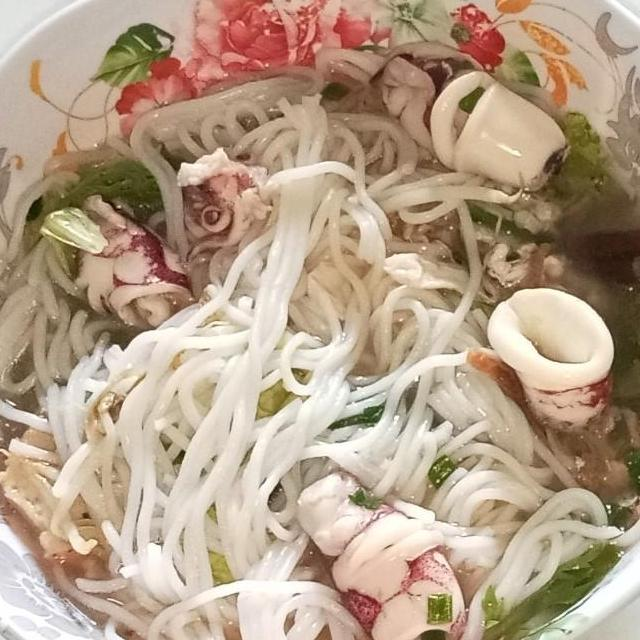bun: (48, 279, 381, 640), (364, 282, 640, 639), (112, 32, 406, 293), (0, 229, 131, 440)
muc: (366, 41, 574, 198), (289, 466, 473, 640), (476, 281, 626, 440), (58, 187, 206, 338), (158, 146, 278, 276)
